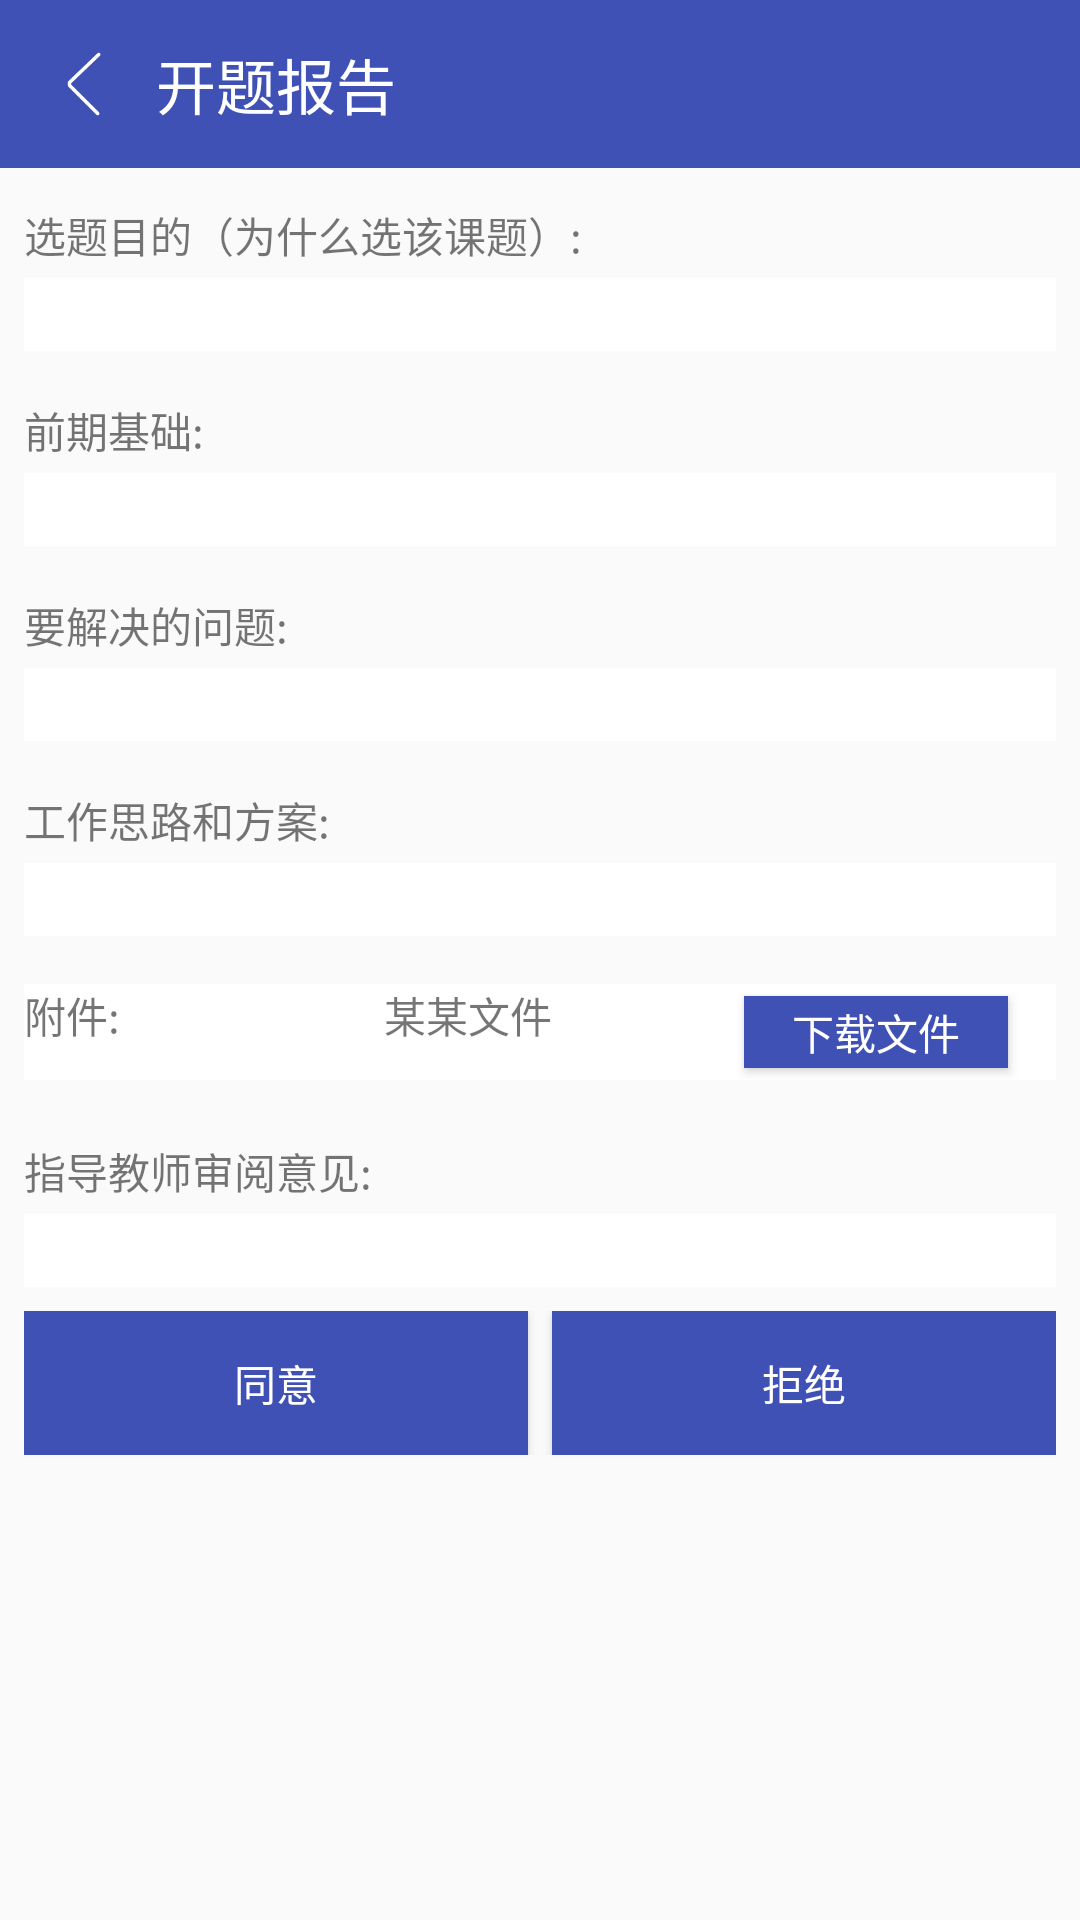

Screen size 1080 × 1920. Icon name, then its center in pixels as point (x, y):
arrowleft: point (84, 84)
